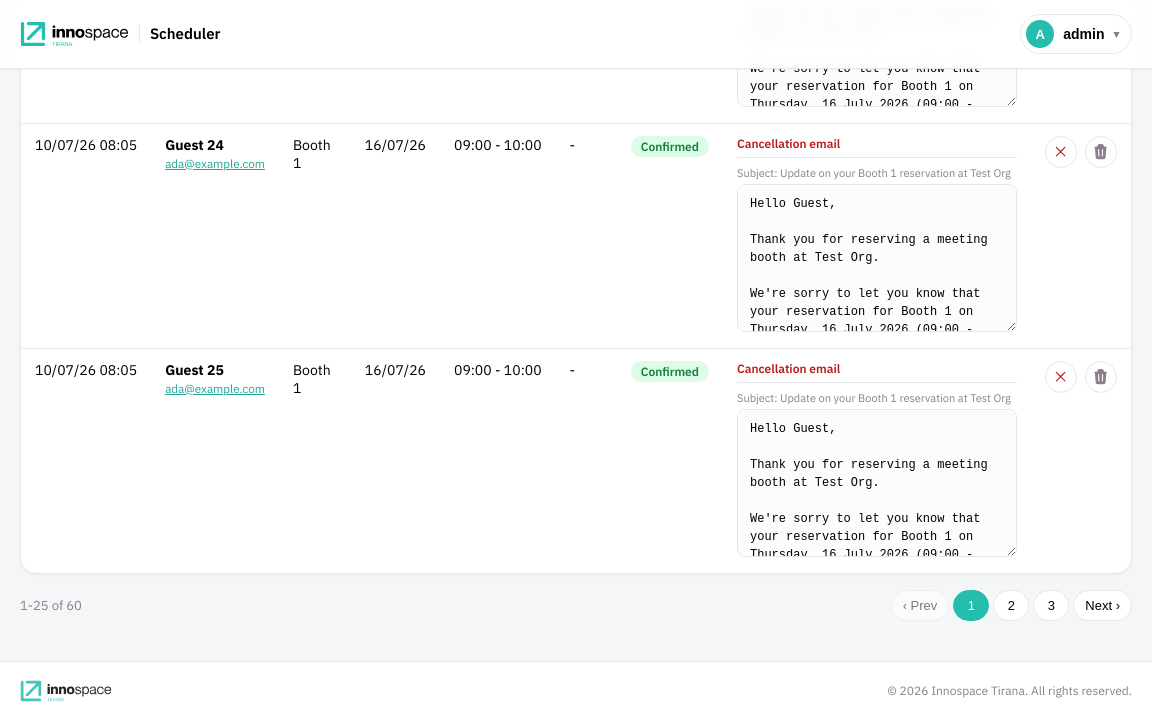
Test: filtering › goes back to page one from a later page
(page scrolled)
Step 1. Click the button "3" → (1051, 605), box x1=1033 y1=590 x2=1069 y2=620
(page scrolled)
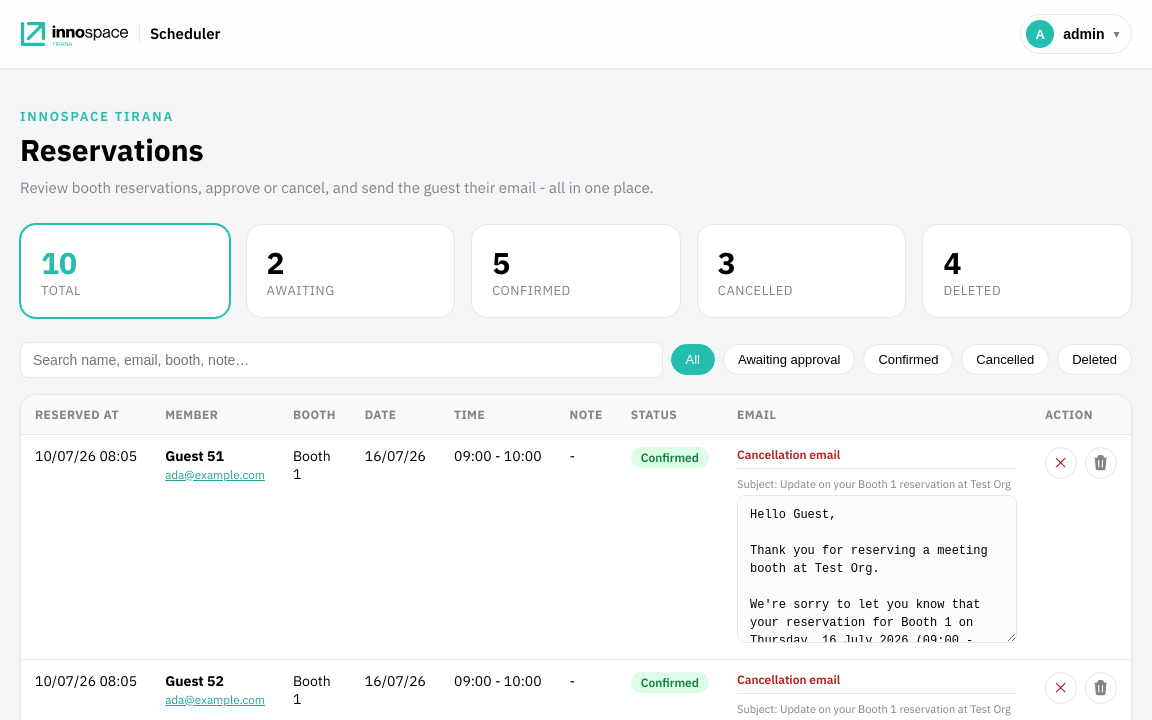
Step 2. Click the button "Confirmed" → (908, 360), box x1=863 y1=344 x2=953 y2=375
(page scrolled)
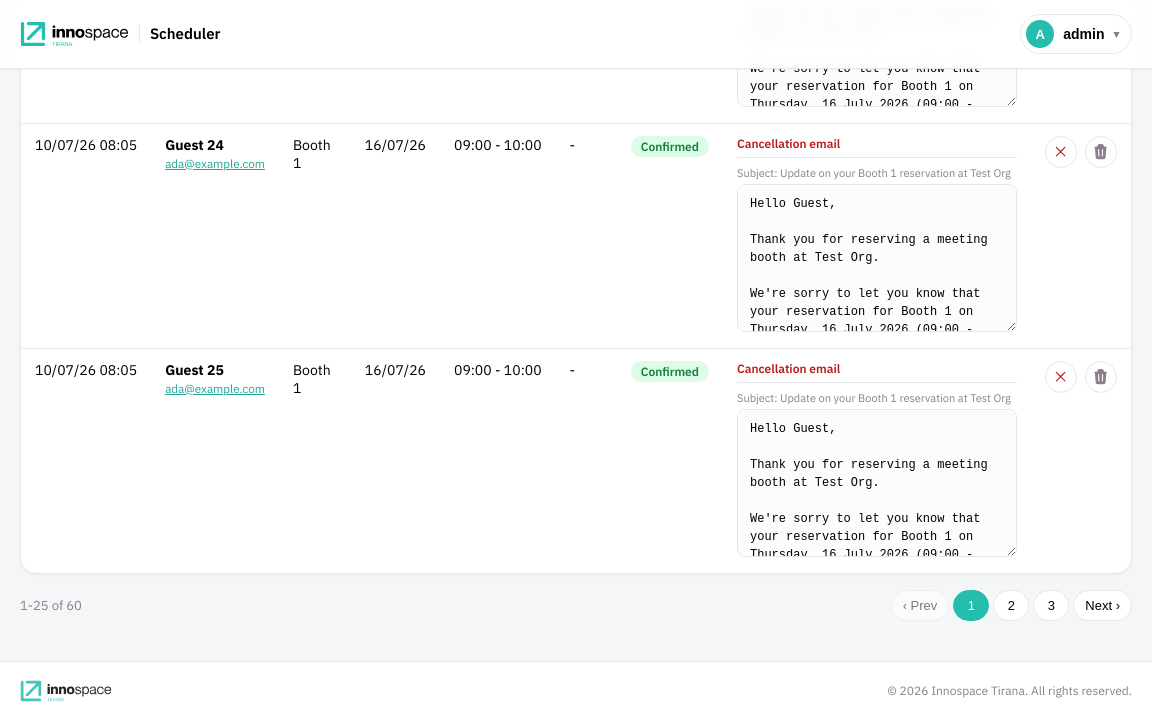
Check: the text "1-25 of 60" is shown, box x1=20 y1=596 x2=82 y2=614
